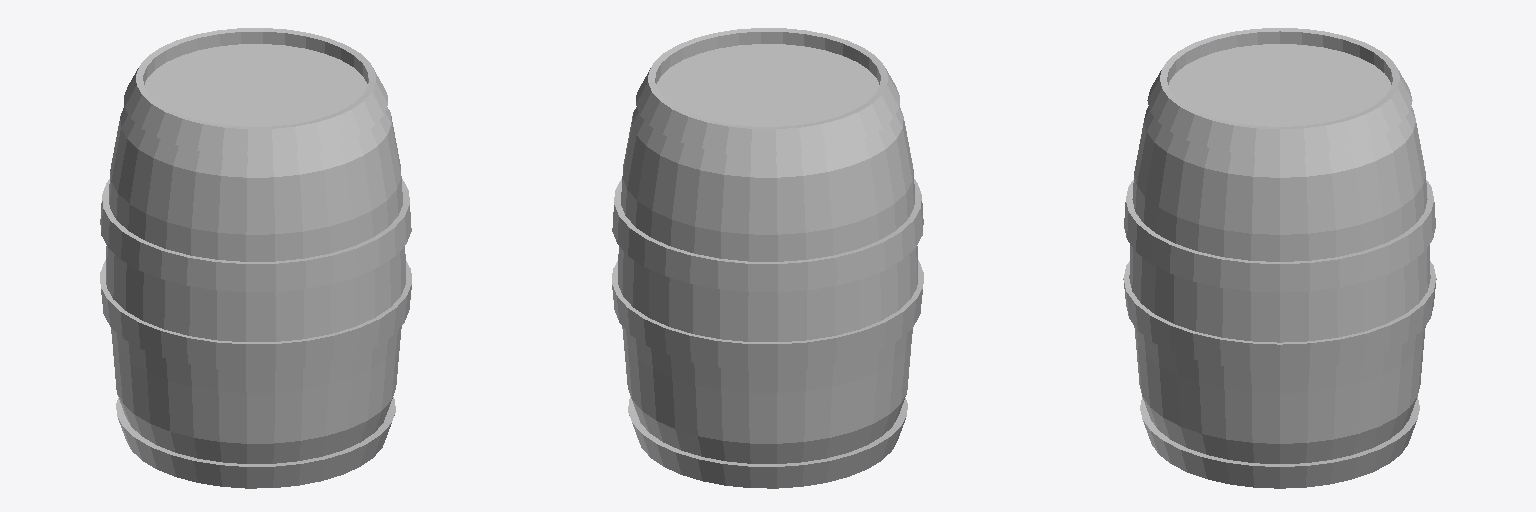
Rendered from Barrel_Unwrapped.obj.
3 views of the same model, side by side, from view 1: azimuth 30°, elevation 25°; view 2: azimuth 150°, elevation 25°; view 3: azimuth 270°, elevation 25° (orthographic).
Visible parts, largest first — view 1: Cylinder; view 2: Cylinder; view 3: Cylinder.
Part boxes in pixels (left/top/right/bottom): Cylinder: left=100, top=28, right=411, bottom=488; Cylinder: left=612, top=28, right=923, bottom=488; Cylinder: left=1123, top=28, right=1436, bottom=488.
Size of the model in its own units: 2.3 by 2.88 by 2.3.